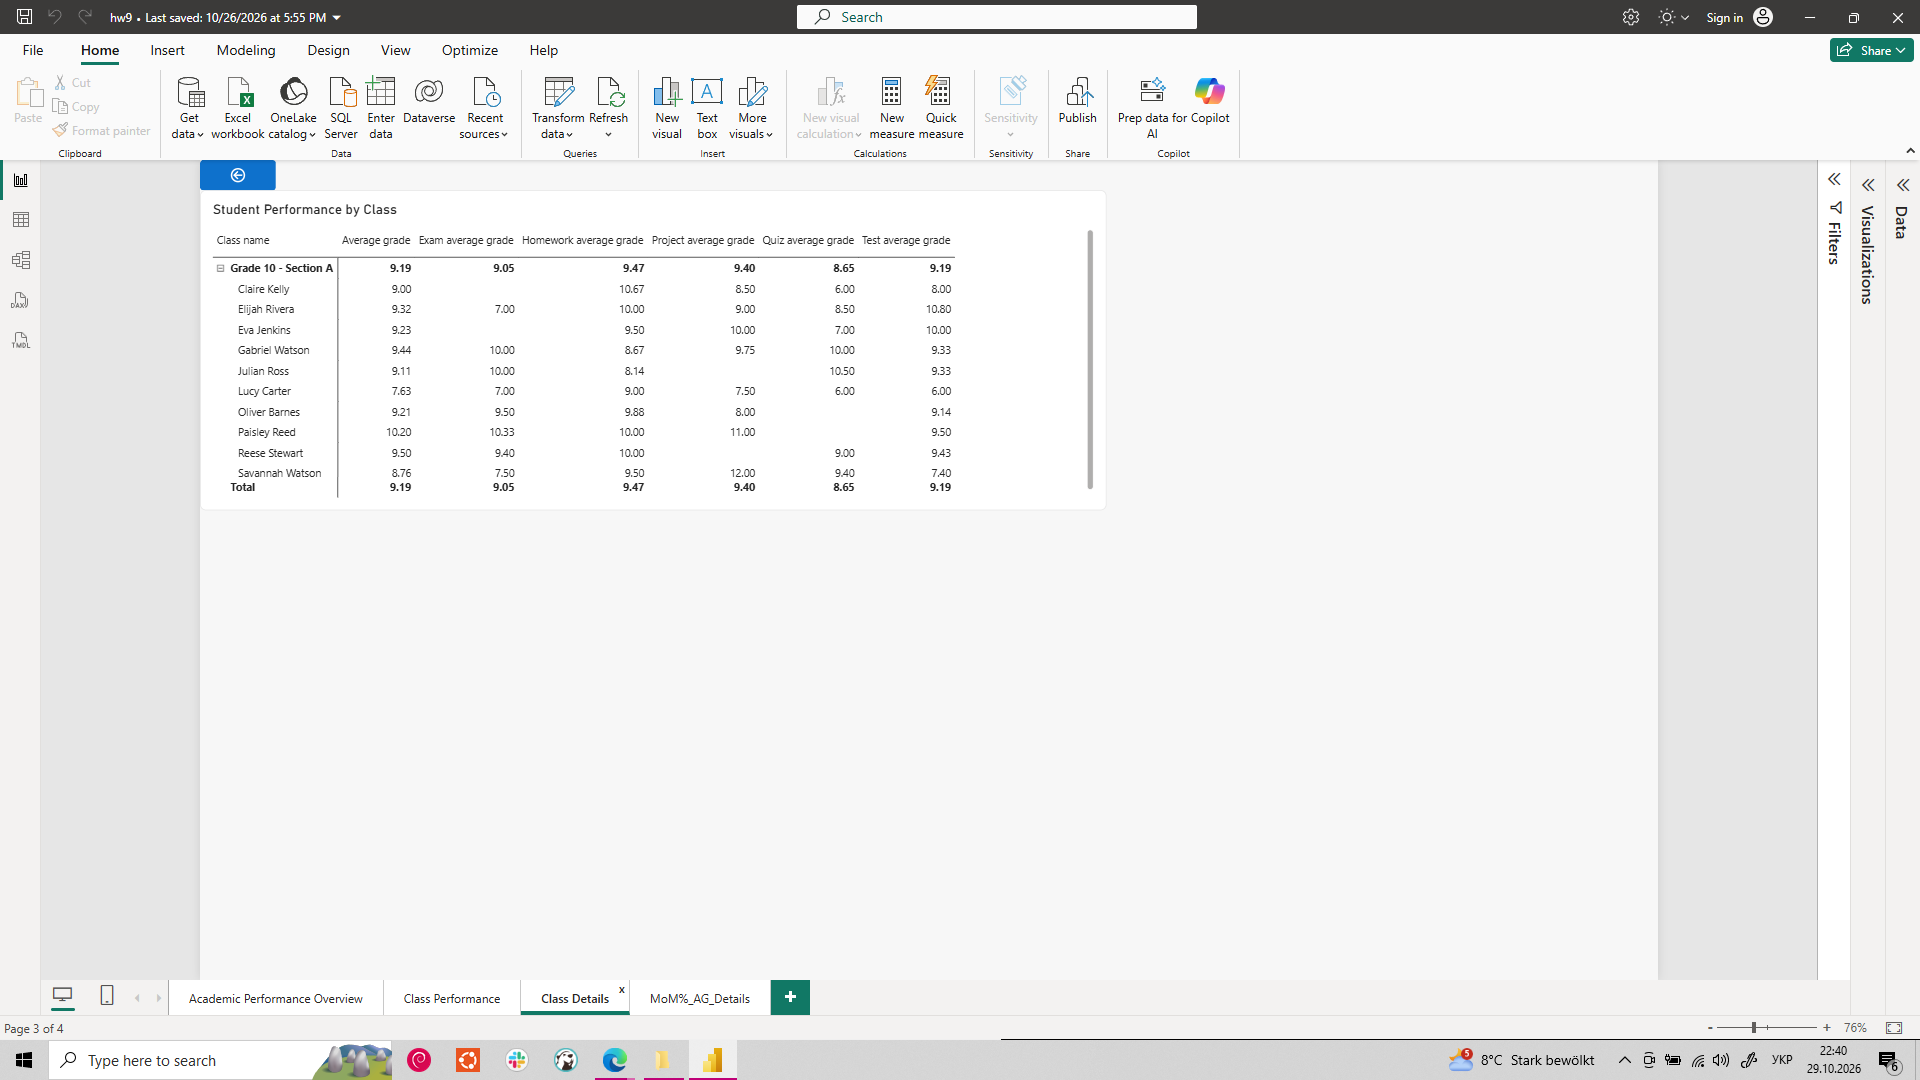

The page's visual inventory and layout, read from the dashboard file:
{"tool":"powerbi","page":{"name":"Class Details","canvas":[1920,1080],"ordinal":2},"visuals":[{"type":"pivotTable","title":"Student Performance by Class","fields":{"Rows":["classes.class_name","students.student_name"],"Values":["_Measures.Average_Grade_Measures","_Measures.Exam_Average_Grade_Measures","_Measures.Homework Average Grade","_Measures.Project Average Grade","_Measures.Quiz Average Grade","_Measures.Test Average Grade"]},"box":[0,40,1194,422],"z":0},{"type":"actionButton","box":[0,0,100,40],"z":1}]}

Visuals, with their boxes on the page's 1920x1080 design canvas (x1, y1, x2, y2). These are canvas units, not pixel positions in the 1920x1080 screenshot, which may show the page scaled, cropped or inside an application window:
"Student Performance by Class" pivotTable: pyautogui.locateOnScreen(0, 40, 1194, 462)
actionButton: pyautogui.locateOnScreen(0, 0, 100, 40)
